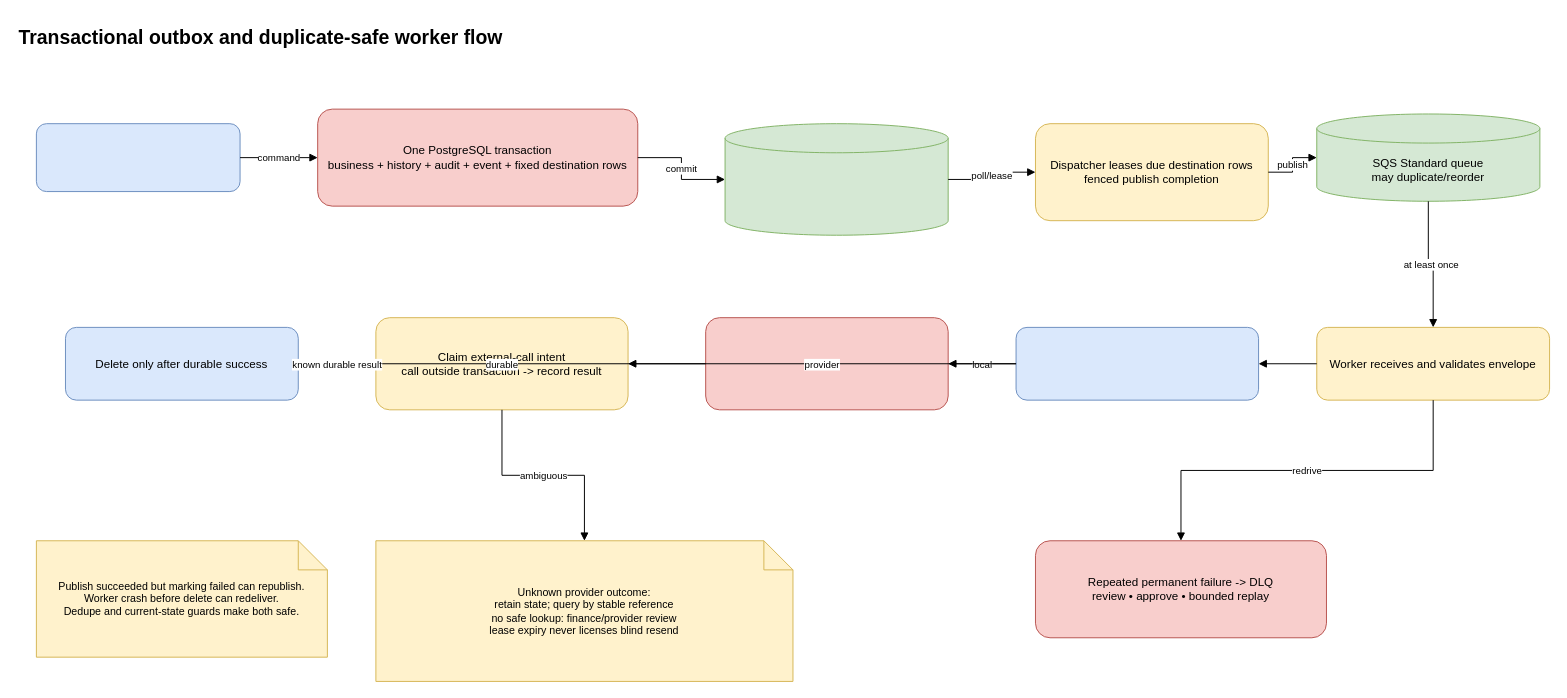
This 1567x698 diagram has some shape labels left out. Here are the shapes that lost their labels. From the top down, the box of each, then its label:
(35, 123, 240, 192): API / domain command
(724, 123, 948, 235): Outbox event and per-destination delivery rows stable event ID / routing version
(705, 317, 948, 410): Local effect or durable external-call intent commits with consumer receipt
(1015, 326, 1259, 400): Reload current authority check receipt/version/state
